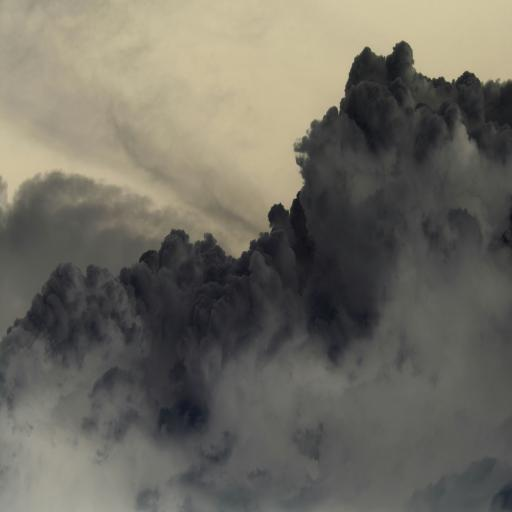smoke: (15, 51, 512, 471)
